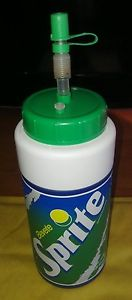sprite: (32, 189, 104, 275), (36, 189, 104, 275)
